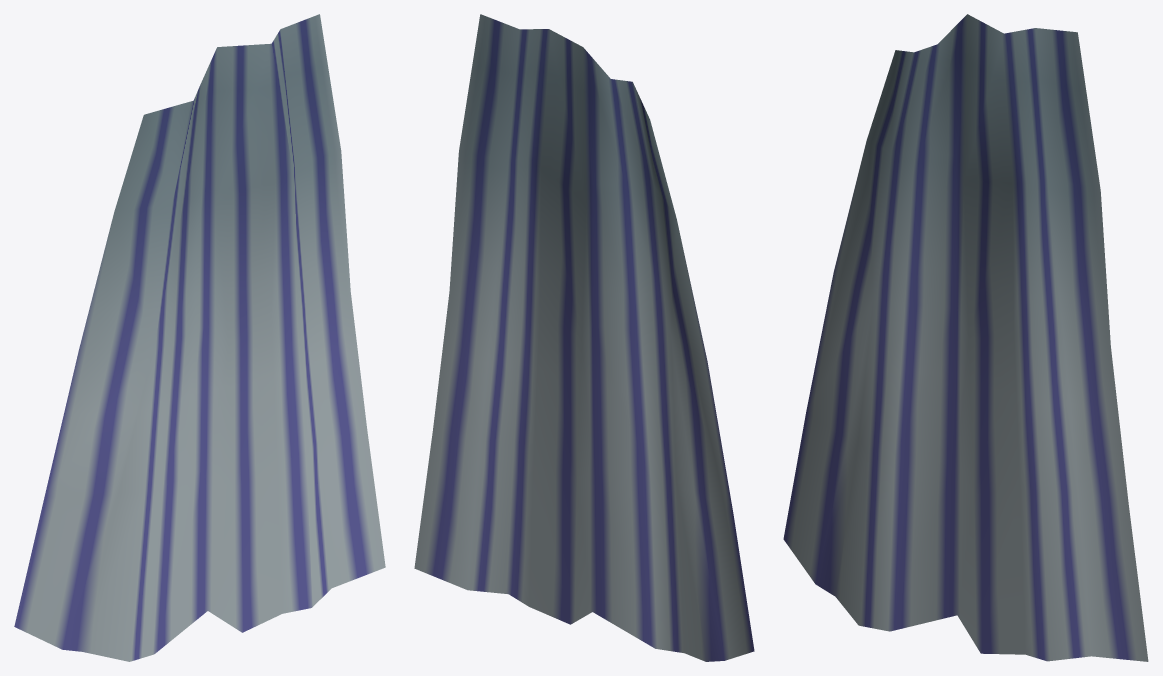
Rendered from rag_simple.FBX.
3 views of the same model, side by side, from view 1: azimuth 30°, elevation 25°; view 2: azimuth 150°, elevation 25°; view 3: azimuth 330°, elevation 25° (orthographic). The views are drawn at different scales.
Visible parts, largest first — view 1: rag; view 2: rag; view 3: rag.
Boxes of the visible parts, x1,y1,x2,y2 form: rag: (14,14,385,661); rag: (414,14,754,661); rag: (783,14,1148,661).
Bounding box in the file's own units: 75.87 × 121 × 10.68.
1 material, 1 textured.
